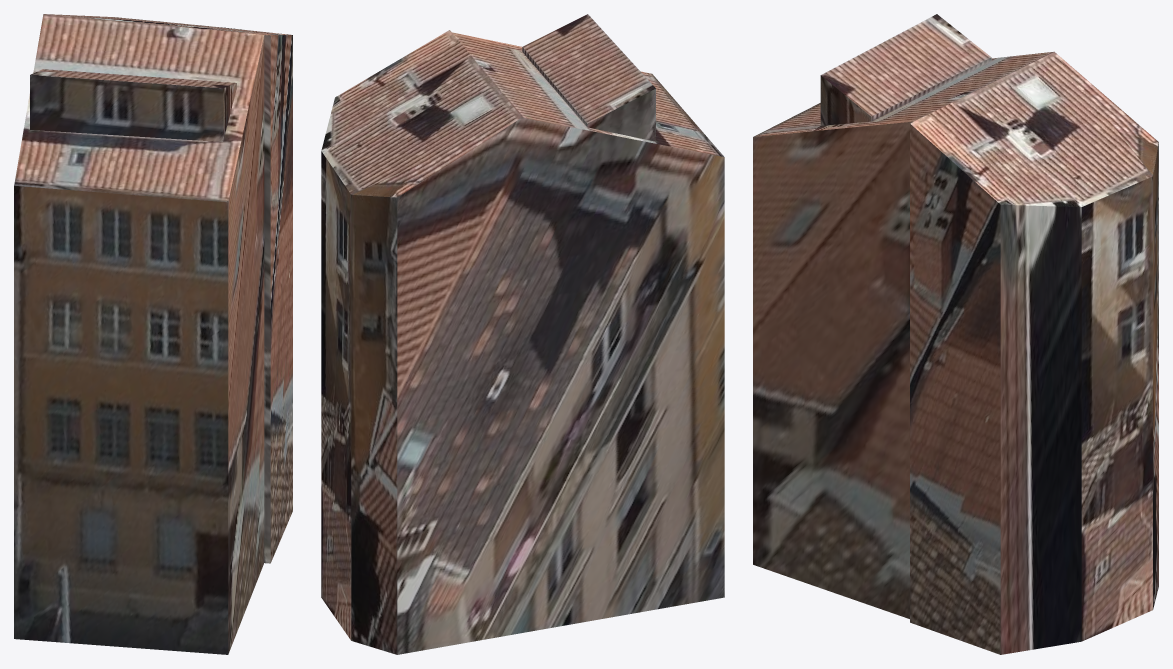
The picture shows the model from 3 angles, left to right: view 1: azimuth 30°, elevation 25°; view 2: azimuth 150°, elevation 25°; view 3: azimuth 270°, elevation 25°; orthographic projection. The views are drawn at different scales.
Parts seen in each view (by area): view 1: Z_UP; view 2: Z_UP; view 3: Z_UP.
Boxes of the visible parts, bbox=[...] form: Z_UP: bbox=[14, 14, 292, 654]; Z_UP: bbox=[321, 14, 724, 654]; Z_UP: bbox=[753, 14, 1158, 654].
Size of the model in its own units: 13.57 by 20.35 by 14.84.
Materials: 2 (1 with a texture image).
